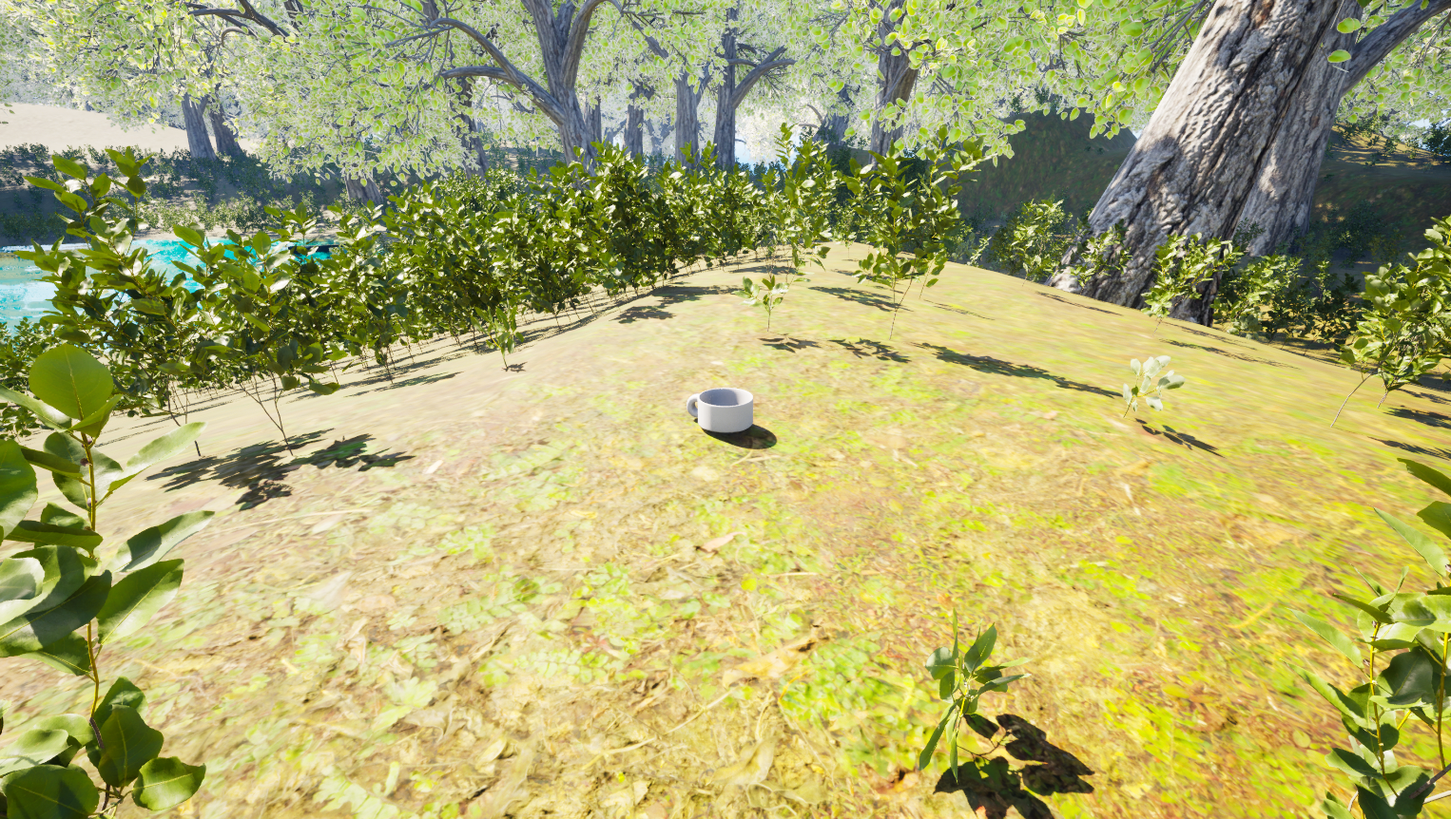Teacup: (682, 382, 765, 438)
